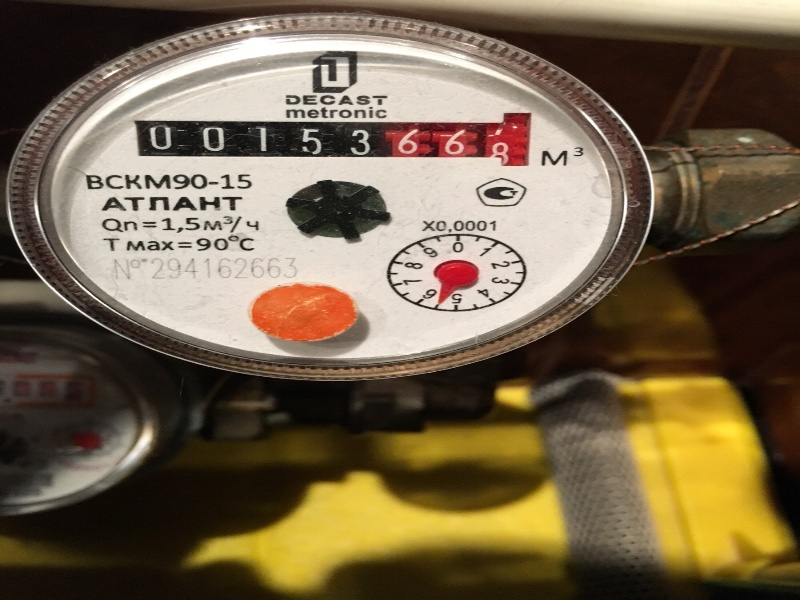dial: (132, 112, 527, 170)
